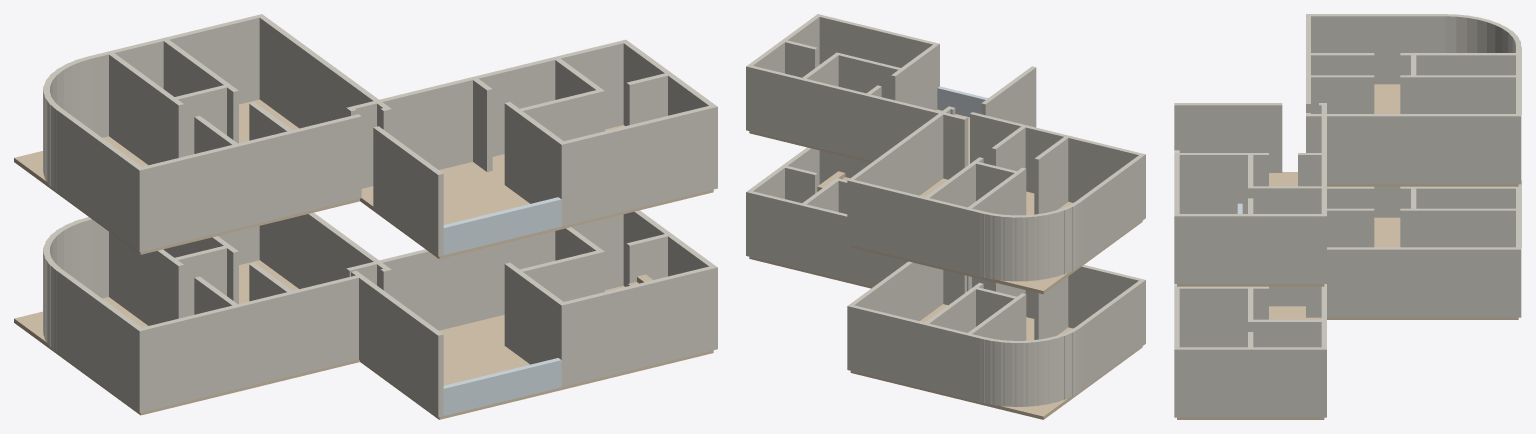
Rendered from sky-villa.glb.
The picture shows the model from 3 angles, left to right: view 1: azimuth 30°, elevation 25°; view 2: azimuth 150°, elevation 25°; view 3: azimuth 270°, elevation 25°; orthographic projection. The views are drawn at different scales.
Parts seen in each view (by area): view 1: SkyUpper, SkyLower; view 2: SkyUpper, SkyLower; view 3: SkyUpper, SkyLower.
Part boxes in pixels (box(x1,y1,x2,y2)): SkyUpper: box(14, 14, 717, 258); SkyLower: box(14, 210, 717, 419); SkyUpper: box(746, 14, 1145, 294); SkyLower: box(746, 147, 1145, 419); SkyUpper: box(1174, 14, 1521, 286); SkyLower: box(1174, 180, 1521, 419).
Size of the model in its own units: 18.21 by 8.6 by 13.21.
